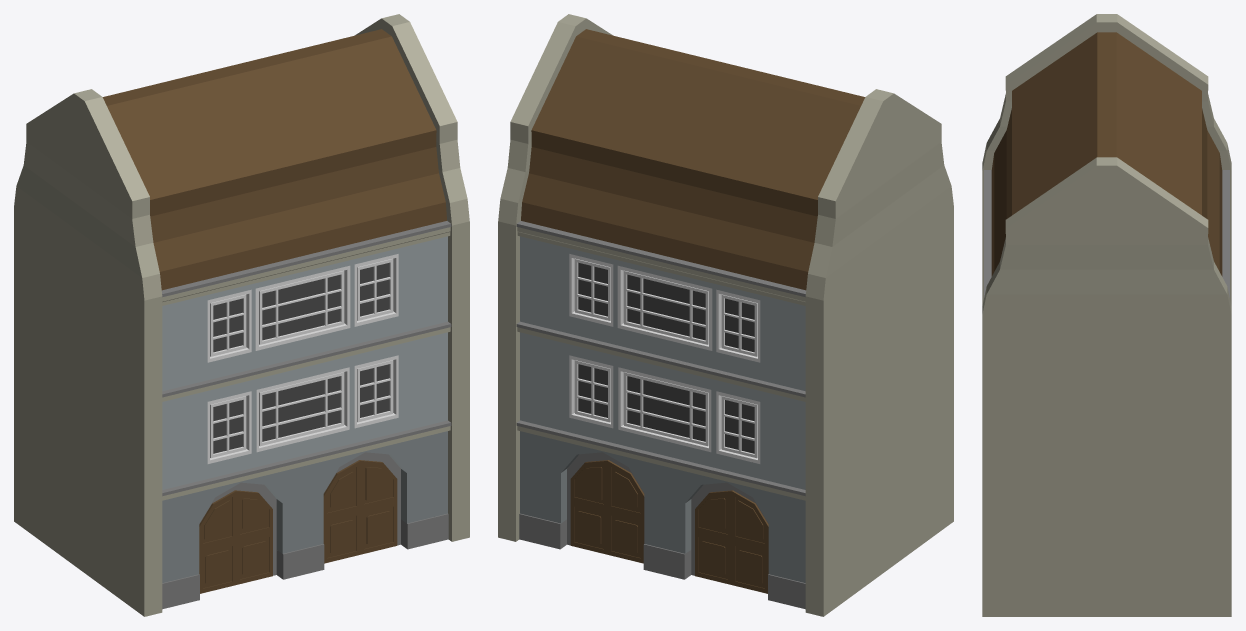
Rendered from building3.glb.
3 views of the same model, side by side, from view 1: azimuth 30°, elevation 25°; view 2: azimuth 150°, elevation 25°; view 3: azimuth 270°, elevation 25° (orthographic). The views are drawn at different scales.
Visible parts, largest first — view 1: Building2_Small; view 2: Building2_Small; view 3: Building2_Small.
Part boxes in pixels (x1=…): Building2_Small: x1=14, y1=14, x2=469, y2=616; Building2_Small: x1=498, y1=14, x2=953, y2=616; Building2_Small: x1=982, y1=14, x2=1231, y2=616.
Size of the model in its own units: 3.58 by 4.97 by 2.49.
